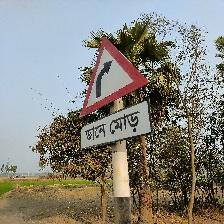Right-turn: (78, 37, 153, 150)
